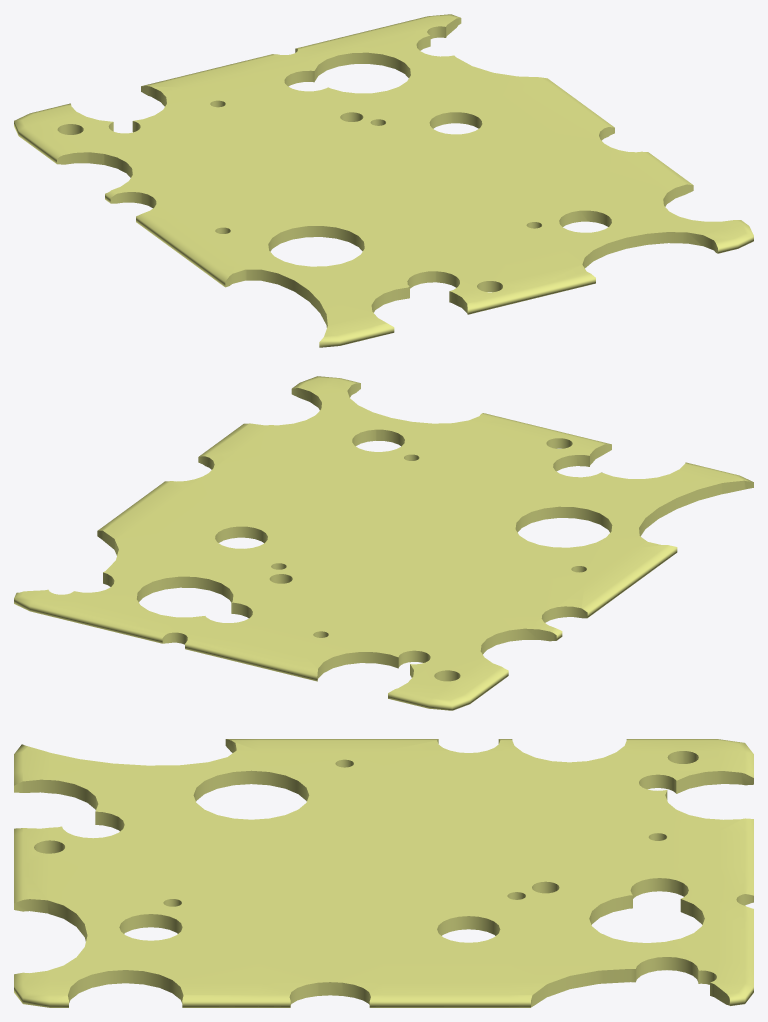
File: yellow cheese.fbx
3 renders of one model, top to bottom at view 1: azimuth 30°, elevation 25°; view 2: azimuth 150°, elevation 25°; view 3: azimuth 270°, elevation 25°, orthographic. The views are drawn at different scales.
Visible parts, largest first — view 1: yellow_cheese; view 2: yellow_cheese; view 3: yellow_cheese.
Boxes of the visible parts, box(x1,y1,x2,y2) form: yellow_cheese: box(14, 14, 753, 347); yellow_cheese: box(14, 376, 753, 710); yellow_cheese: box(14, 739, 753, 1007).
Size of the model in its own units: 3.7 by 0.0874 by 4.41.
